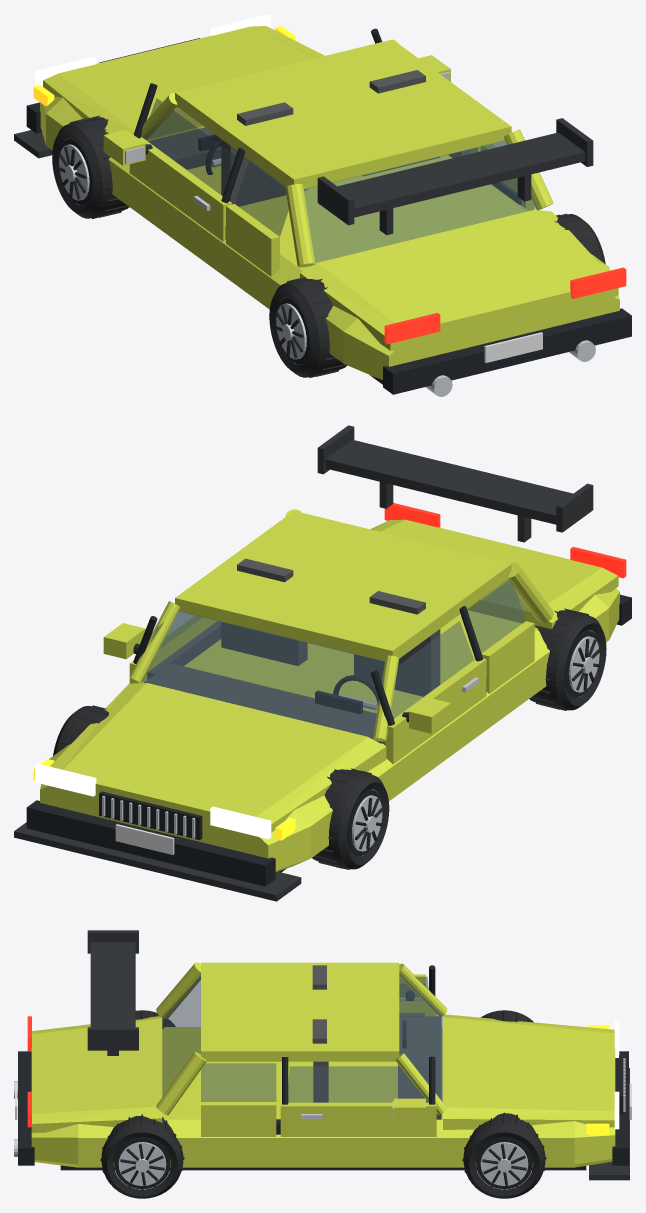
File: supercar_track.glb
3 views of the same model, one above another, from view 1: azimuth 30°, elevation 25°; view 2: azimuth 150°, elevation 25°; view 3: azimuth 270°, elevation 25° (orthographic). The views are drawn at different scales.
Parts seen in each view (by area): view 1: Body, Wing_Rear, Door_FL, Wheel_RL, Wheel_FL, Wheel_RR, Door_FR; view 2: Body, Wing_Rear, Door_FL, Wheel_FL, Wheel_RL, Door_FR, Wheel_FR; view 3: Body, Door_FR, Wing_Rear, Wheel_FR, Wheel_RR, Door_FL, Wheel_FL.
Part boxes in pixels (x1,y1,x2,y2): Body: (14,14,631,396); Wing_Rear: (317,118,593,225); Door_FL: (103,83,244,241); Wheel_RL: (269,277,347,377); Wheel_FL: (52,115,129,218); Wheel_RR: (554,213,605,263); Door_FR: (371,28,480,157); Body: (14,482,631,901); Wing_Rear: (317,425,593,532); Door_FL: (371,606,486,764); Wheel_FL: (312,768,389,869); Wheel_RL: (529,608,606,710); Door_FR: (103,612,221,683); Wheel_FR: (53,705,108,755); Body: (14,962,631,1180); Door_FR: (280,1056,436,1136); Wing_Rear: (87,930,138,1050); Wheel_FR: (462,1112,546,1198); Wheel_RR: (100,1114,184,1198); Door_FL: (399,965,436,1016); Wheel_FL: (481,1010,533,1022).
Size of what is drawn, in the model's own units: 2.46 by 1.4 by 4.82.
